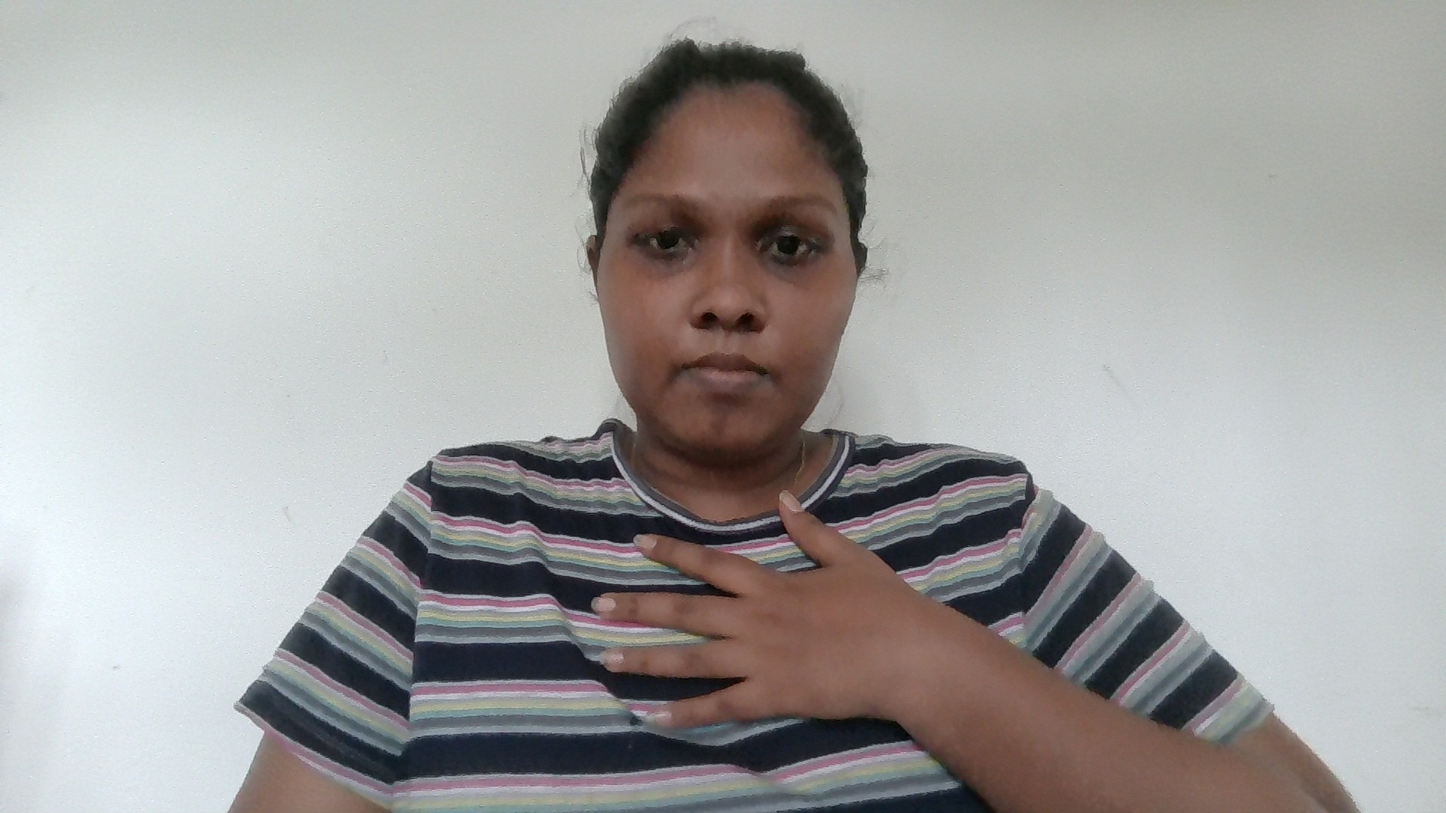Please: (574, 488, 964, 767)
